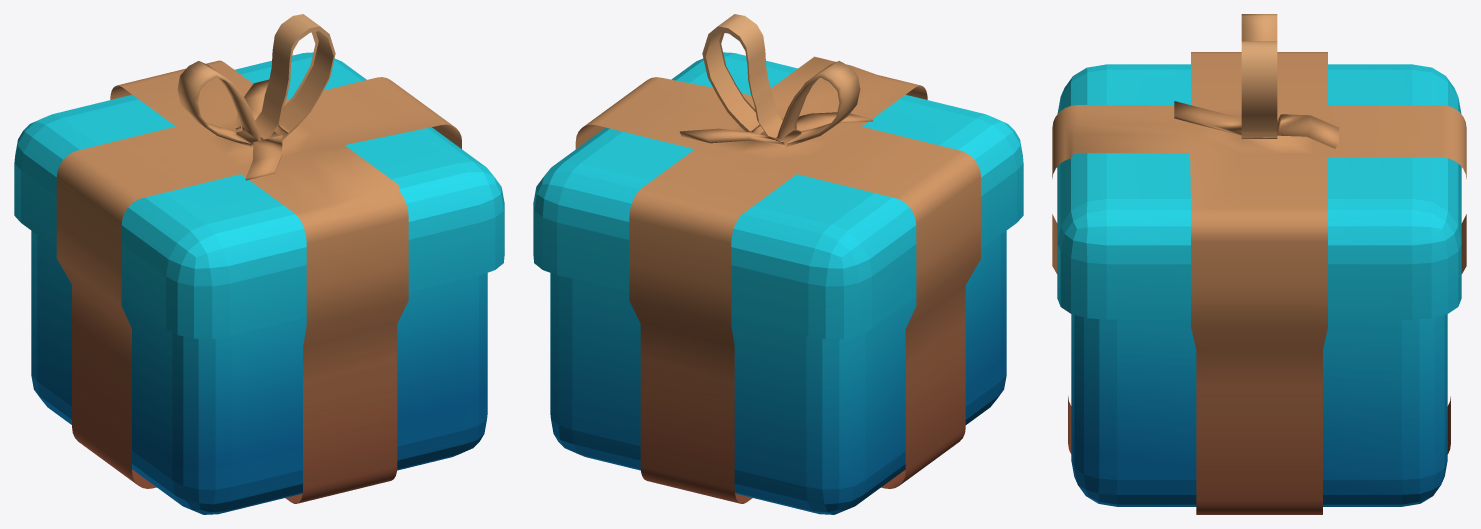
File: Geschenk_4.fbx
3 views of the same model, side by side, from view 1: azimuth 30°, elevation 25°; view 2: azimuth 150°, elevation 25°; view 3: azimuth 270°, elevation 25° (orthographic). The views are drawn at different scales.
Visible parts, largest first — view 1: line; view 2: line; view 3: line.
Part boxes in pixels (x1,y1,x2,y2): line: (14,14,504,514); line: (533,14,1023,514); line: (1052,14,1466,514).
Size of the model in its own units: 220 by 248 by 220.
1 material, 1 textured.
